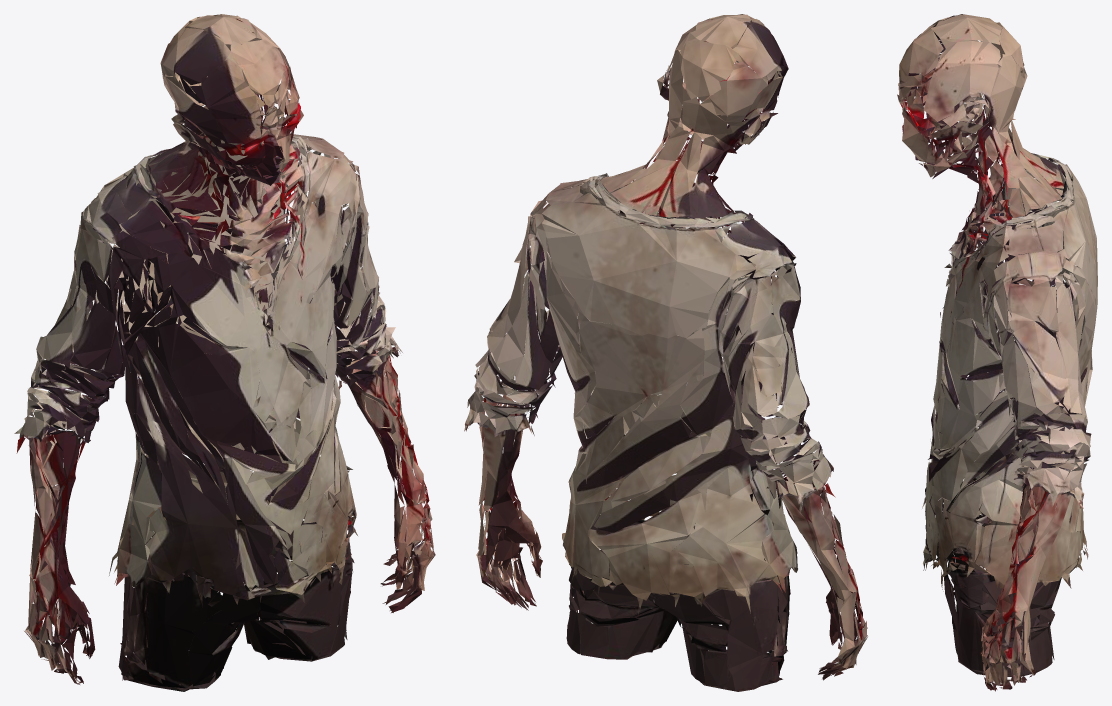
The model's file is mist_walker.glb.
3 renders of one model, left to right at view 1: azimuth 30°, elevation 25°; view 2: azimuth 150°, elevation 25°; view 3: azimuth 270°, elevation 25°, orthographic. The views are drawn at different scales.
Visible parts, largest first — view 1: world; view 2: world; view 3: world.
Part boxes in pixels (box(x1,y1,x2,y2)): world: box(14, 14, 435, 691); world: box(464, 14, 867, 691); world: box(897, 14, 1097, 691).
Size of the model in its own units: 1.27 by 2 by 0.6075.
1 material, 1 textured.
